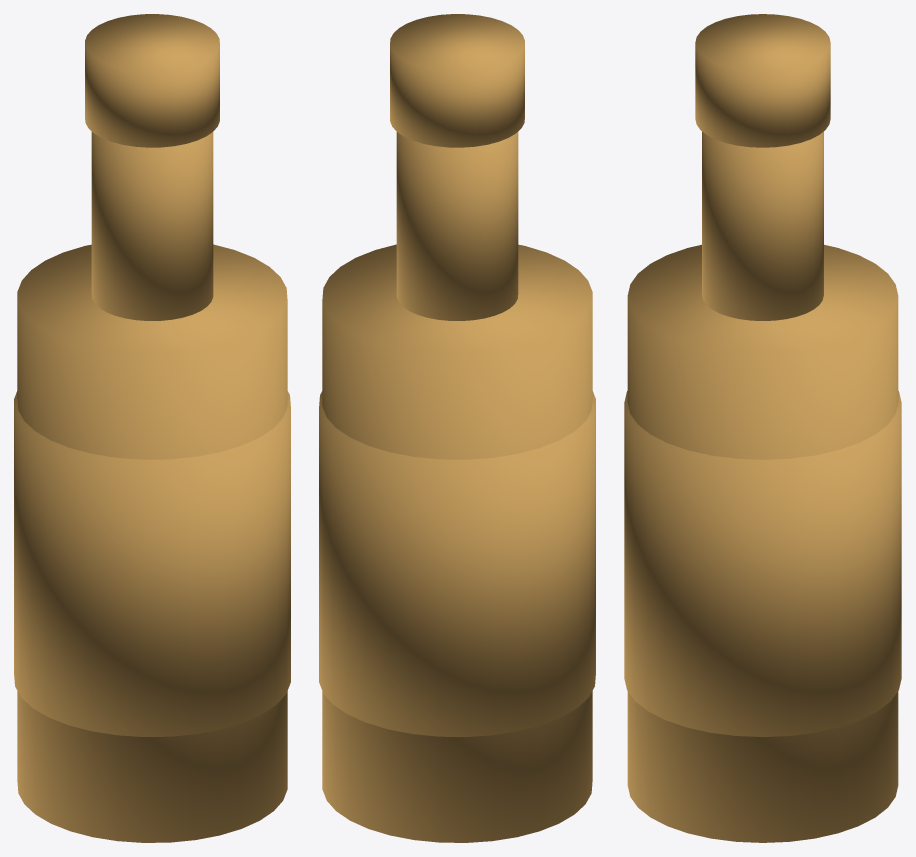
Rendered from SM_Almond_Water_Bottle.fbx.
The picture shows the model from 3 angles, left to right: view 1: azimuth 30°, elevation 25°; view 2: azimuth 150°, elevation 25°; view 3: azimuth 270°, elevation 25°; orthographic projection.
Visible parts, largest first — view 1: Cylinder; view 2: Cylinder; view 3: Cylinder.
Boxes of the visible parts, box(x1,y1,x2,y2) form: Cylinder: box(14, 14, 290, 842); Cylinder: box(319, 14, 595, 842); Cylinder: box(624, 14, 901, 842).
Size of the model in its own units: 8.2 by 24.25 by 8.2.
